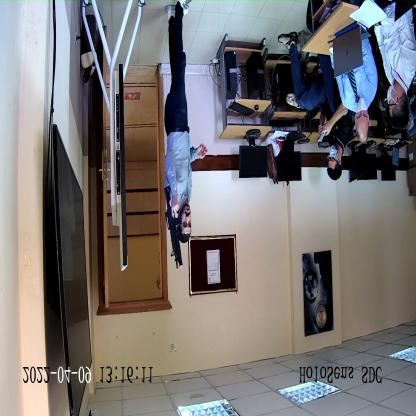handgun: (162, 183, 186, 272)
